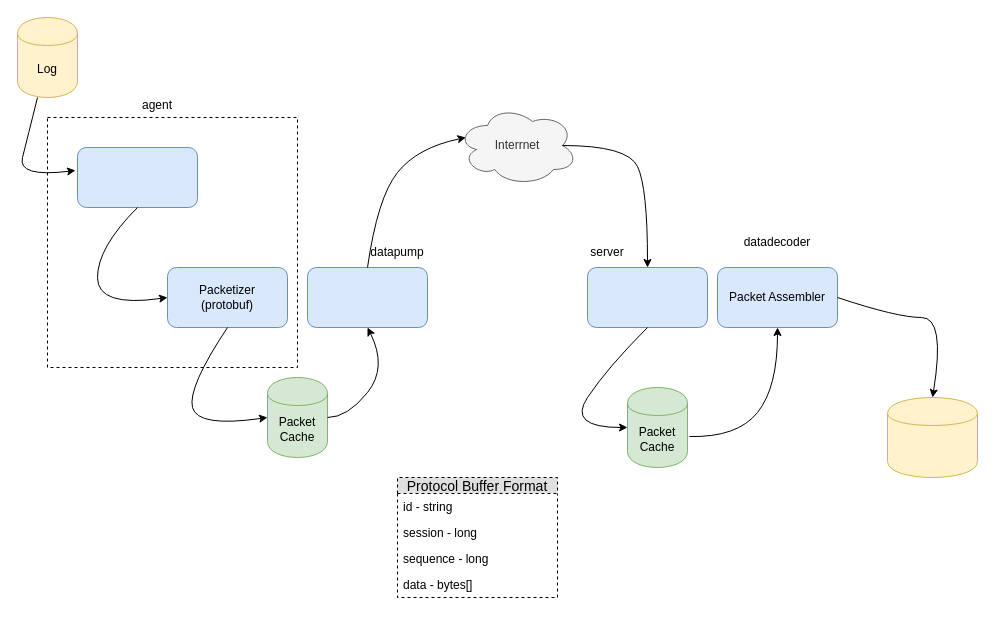
Some shapes in this 995 by 618 pixel diagram are drawn without their labels. The centre of each missing label's shape, as x and y in pixels:
"Data Handler (protobuf)" goes at pixel 647 297.
"Data Pump (protobuf)" goes at pixel 367 297.
"Reconstituted Logs" goes at pixel 932 437.
"Tailer" goes at pixel 137 177.
